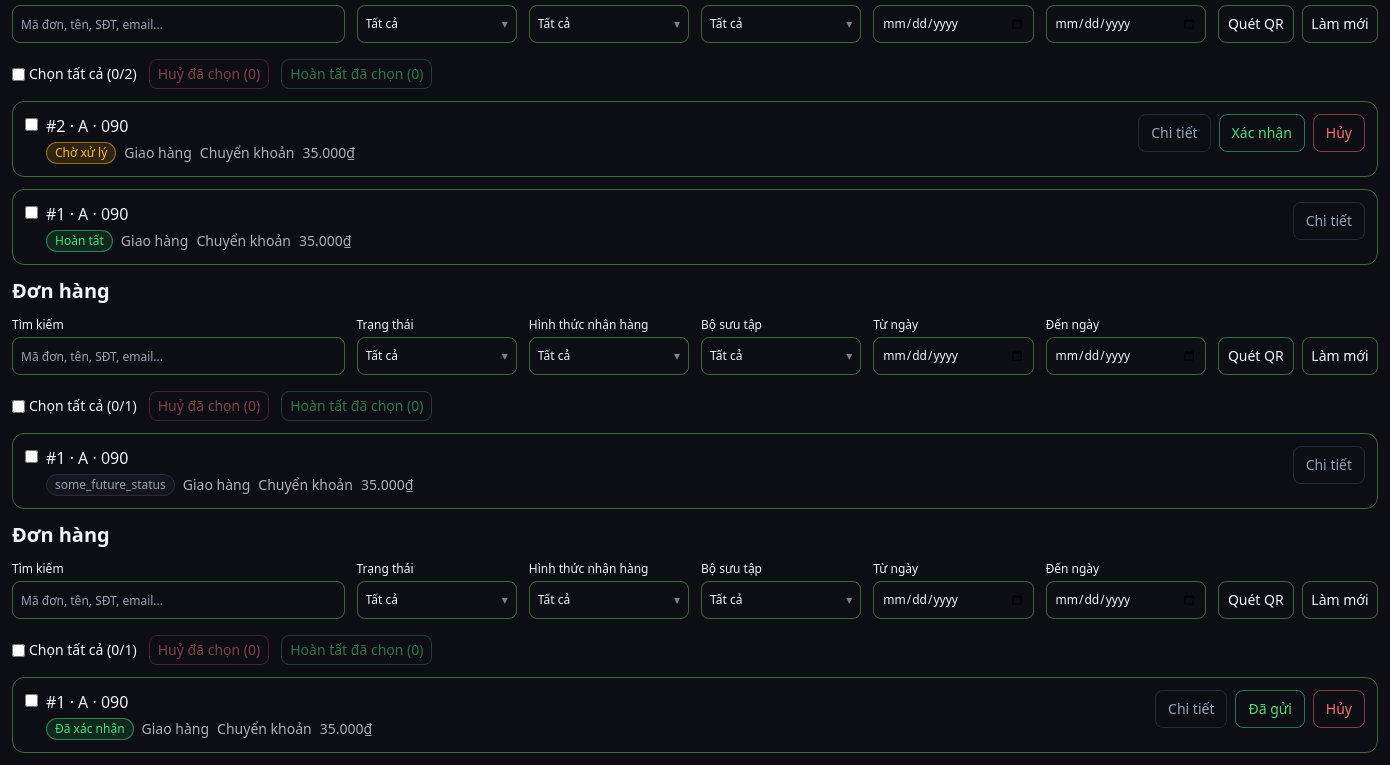
AdminOrders - semantic status/action styling (Admin UI plan) › collapses the detail panel again when 'Chi tiết' (now 'Ẩn') is clicked a second time
(page scrolled)
Step 1. Click the 4th button "Chi tiết" → coordinates (1191, 709), box [1155,690,1228,728]
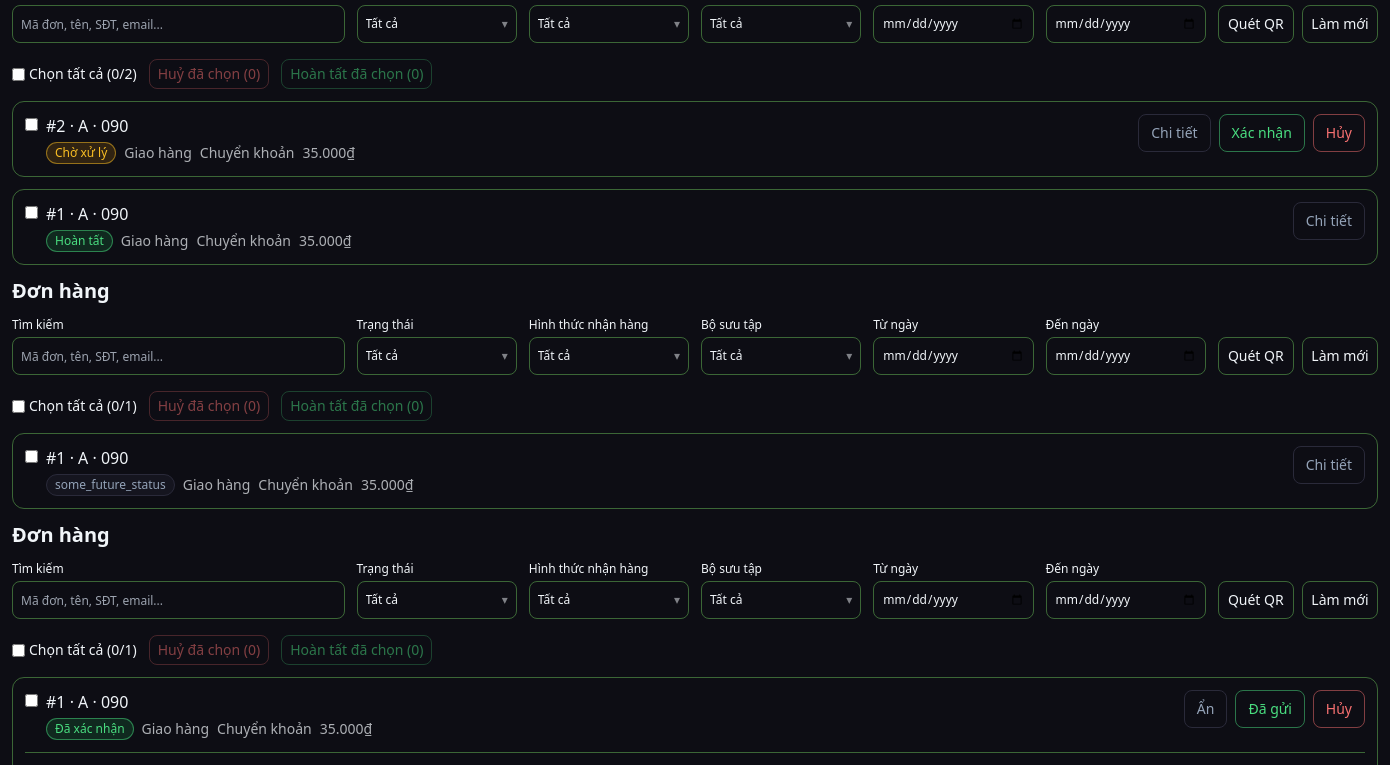
Check: the button "Ẩn" is shown
Step 2. Click the button "Ẩn" → coordinates (1206, 709), box [1184,690,1227,728]
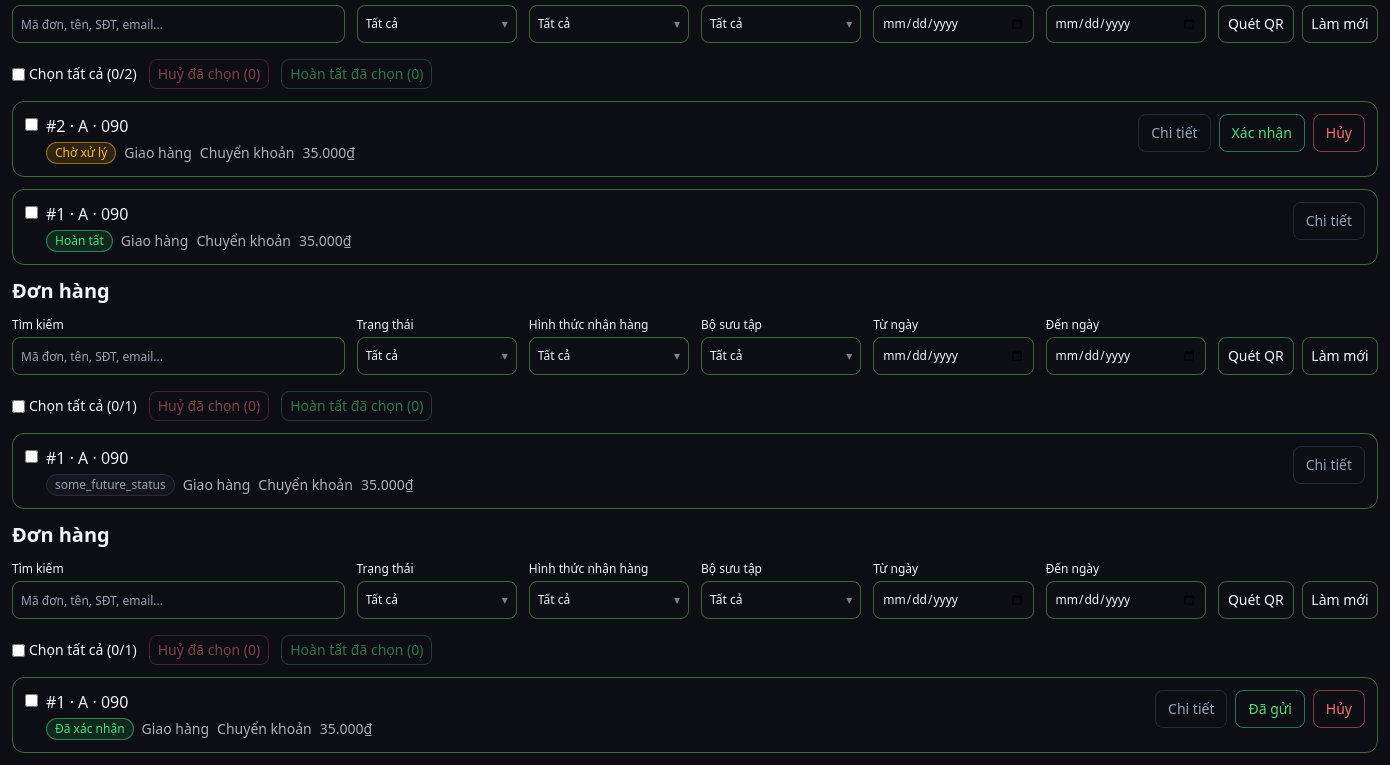
Check: the 4th button "Chi tiết" is shown, box [1155,690,1228,728]
